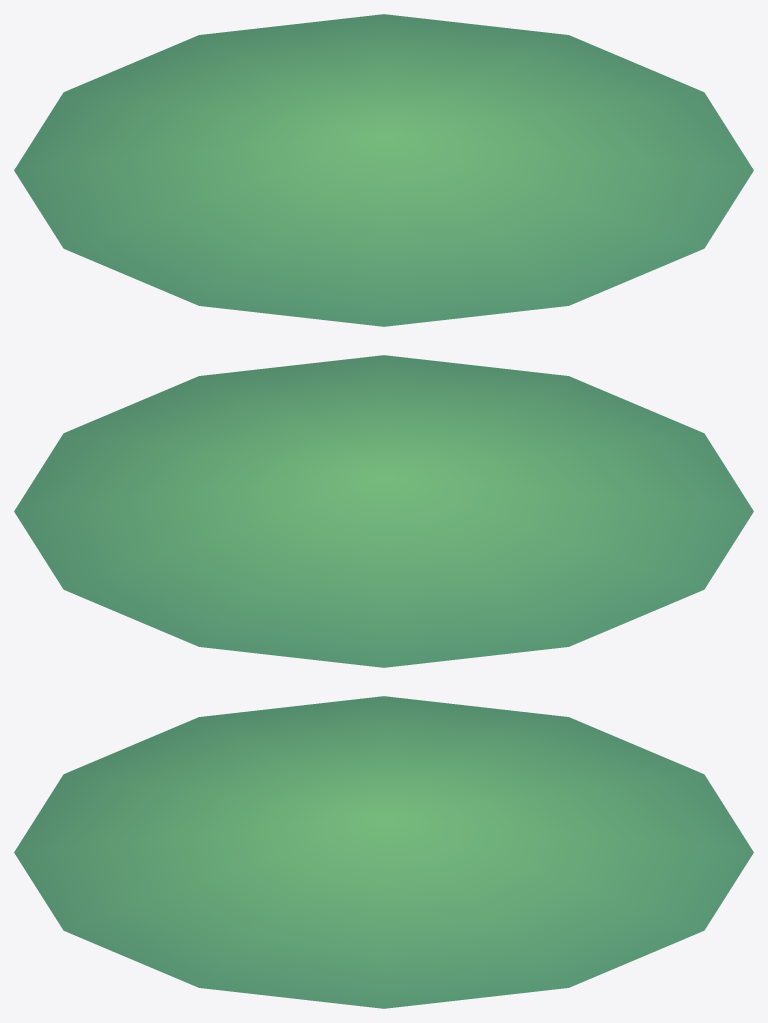
Rendered from S_Duckweed.fbx.
3 views of the same model, one above another, from view 1: azimuth 30°, elevation 25°; view 2: azimuth 150°, elevation 25°; view 3: azimuth 270°, elevation 25° (orthographic).
Parts seen in each view (by area): view 1: Duckweed_GEO; view 2: Duckweed_GEO; view 3: Duckweed_GEO.
Boxes of the visible parts, x1,y1,x2,y2 form: Duckweed_GEO: [14, 14, 753, 326]; Duckweed_GEO: [14, 355, 753, 667]; Duckweed_GEO: [14, 696, 753, 1008].
Bounding box in the file's own units: 0.815 × 0.0426 × 0.815.
